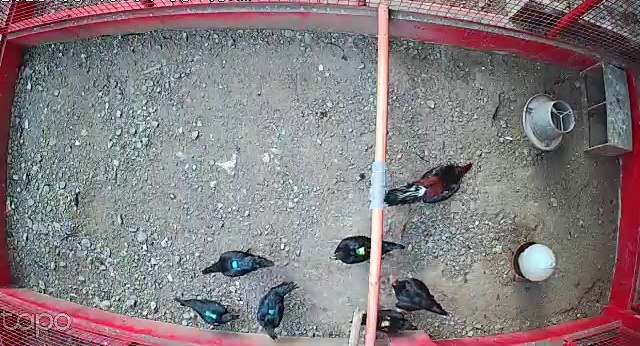Chicken: (255, 275, 299, 345), (328, 230, 409, 266), (388, 271, 450, 317), (199, 248, 277, 279), (170, 294, 239, 327), (350, 305, 418, 335)
Rooster: (381, 156, 476, 211)
Saddle_Color_Blue: (232, 260, 238, 268)
Saddle_Color_Yellow: (380, 314, 393, 328)
Saddle_Color_YellowGreen: (355, 243, 367, 257)
